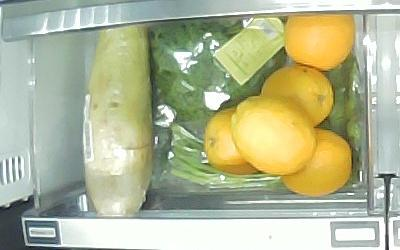orange: (232, 96, 317, 175), (281, 129, 352, 196), (261, 65, 333, 127), (285, 13, 355, 70), (205, 108, 259, 174)
